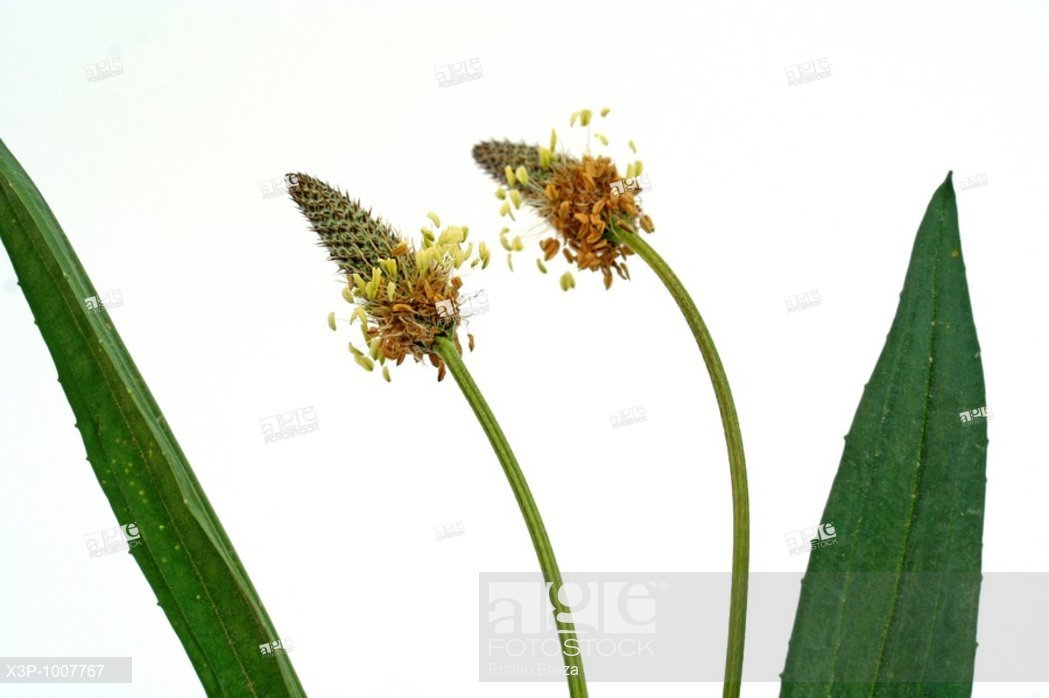buckhorn plantain: (448, 128, 791, 698), (275, 159, 605, 698)
